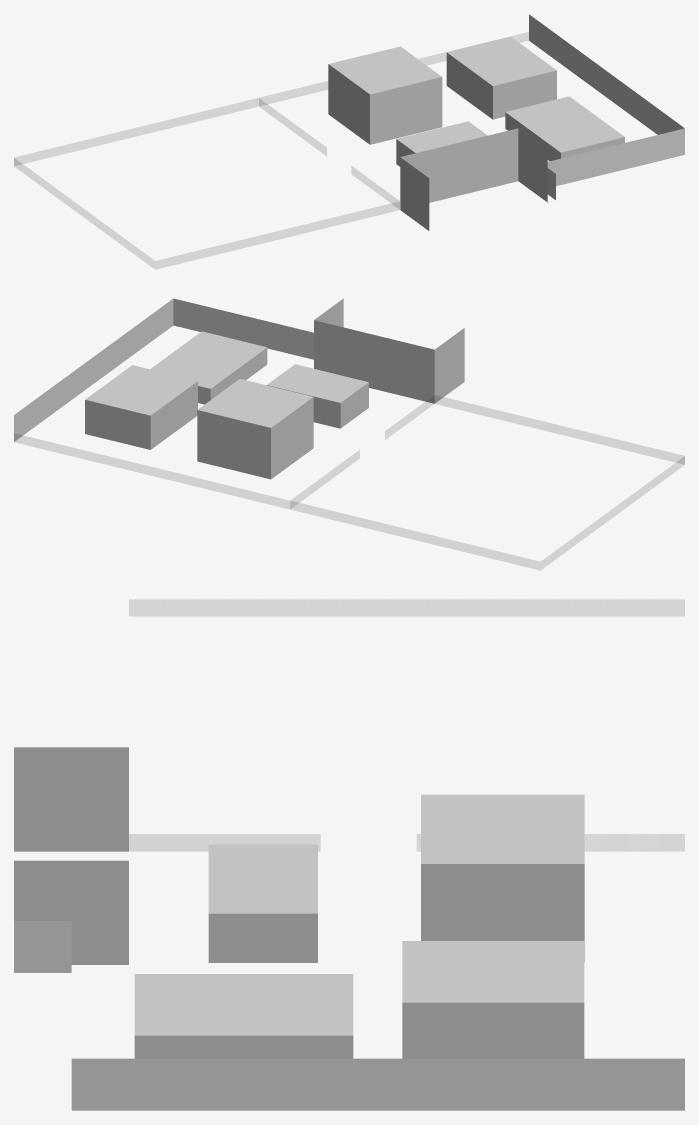
Rendered from colliders.glb.
3 renders of one model, top to bottom at view 1: azimuth 30°, elevation 25°; view 2: azimuth 150°, elevation 25°; view 3: azimuth 270°, elevation 25°, orthographic. The views are drawn at different scales.
Visible parts, largest first — view 1: Building1, Building5, Building2, Building3, OuterWall, OuterWall.001, ParkFence.004, ParkFence.003, Building4, ParkFence, NthFence, ParkFence.001; view 2: Building1, Building5, Building2, Building3, OuterWall, OuterWall.001, Building4, NthFence, ParkFence.003, ParkFence.004, ParkFence, ParkFence.001; view 3: OuterWall, Building1, Building5, Building2, Building3, Building4, ParkFence, OuterWall.002, ParkFence.002, ParkFence.001.
Boxes of the visible parts, <box> form: Building1: <box>328,46,442,144</box>; Building5: <box>400,128,547,230</box>; Building2: <box>446,36,556,119</box>; Building3: <box>505,96,624,161</box>; OuterWall: <box>529,14,684,134</box>; OuterWall.001: <box>547,128,684,186</box>; ParkFence.004: <box>156,202,399,268</box>; ParkFence.003: <box>15,98,258,163</box>; Building4: <box>396,121,487,166</box>; ParkFence: <box>14,158,154,268</box>; NthFence: <box>260,32,528,103</box>; ParkFence.001: <box>259,99,326,155</box>; Building1: <box>197,379,313,479</box>; Building5: <box>314,298,464,403</box>; Building2: <box>85,365,197,449</box>; Building3: <box>150,331,267,404</box>; OuterWall: <box>14,299,173,441</box>; OuterWall.001: <box>173,298,313,359</box>; Building4: <box>267,364,368,428</box>; NthFence: <box>14,434,289,508</box>; ParkFence.003: <box>291,501,539,569</box>; ParkFence.004: <box>435,395,683,461</box>; ParkFence: <box>541,457,684,568</box>; ParkFence.001: <box>291,450,359,502</box>; OuterWall: <box>71,1058,684,1110</box>; Building1: <box>421,794,584,962</box>; Building5: <box>14,747,128,964</box>; Building2: <box>402,941,584,1058</box>; Building3: <box>134,974,353,1058</box>; Building4: <box>208,844,317,962</box>; ParkFence: <box>129,600,684,615</box>; OuterWall.002: <box>14,921,71,972</box>; ParkFence.002: <box>129,834,319,850</box>; ParkFence.001: <box>417,834,684,850</box>.
Bounding box in the file's own units: 122 × 12 × 70.
Materials: 3 (1 with a texture image).
